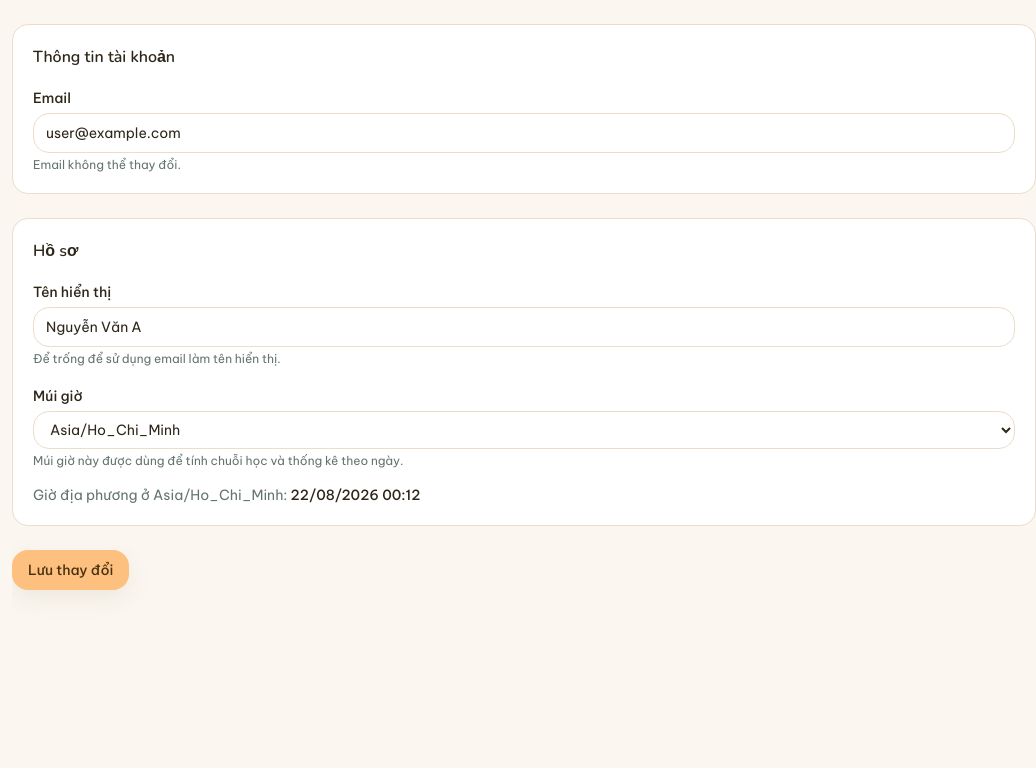
Test case: ProfileSettingsForm › keeps entered values and shows the error on a recoverable failure
Replace the text in the field labelled "Tên hiển thị" with "Tên giữ nguyên" at (524, 327), box [33, 307, 1015, 347]
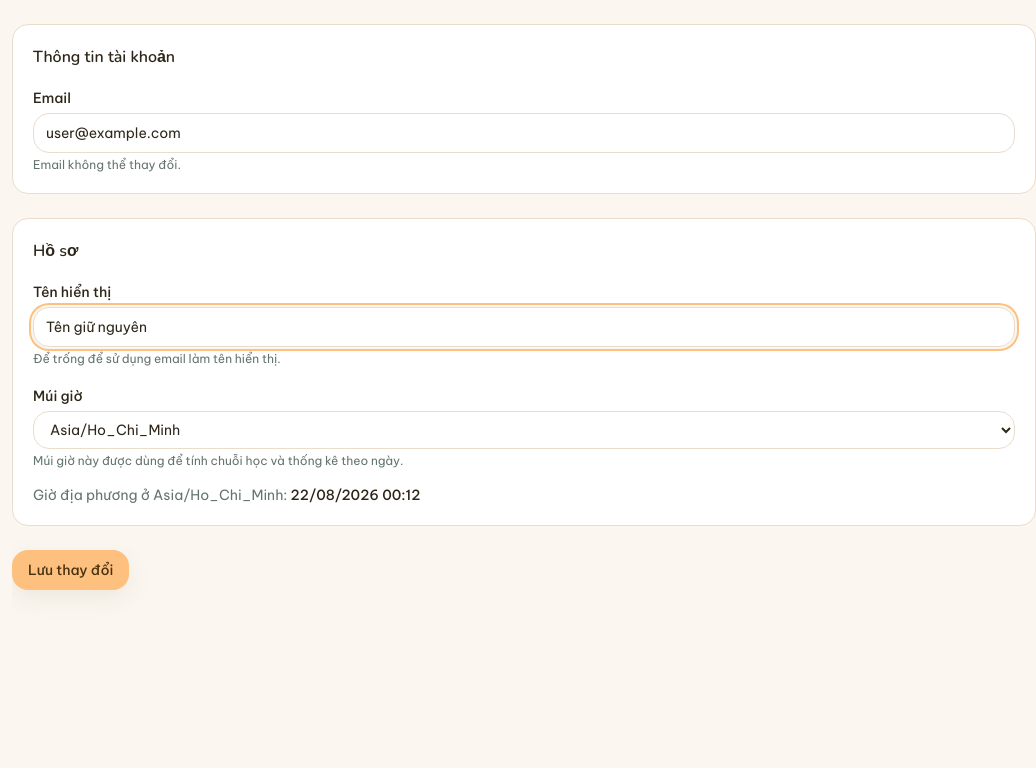
Click the button "Lưu thay đổi" at (71, 570), box [12, 550, 129, 590]
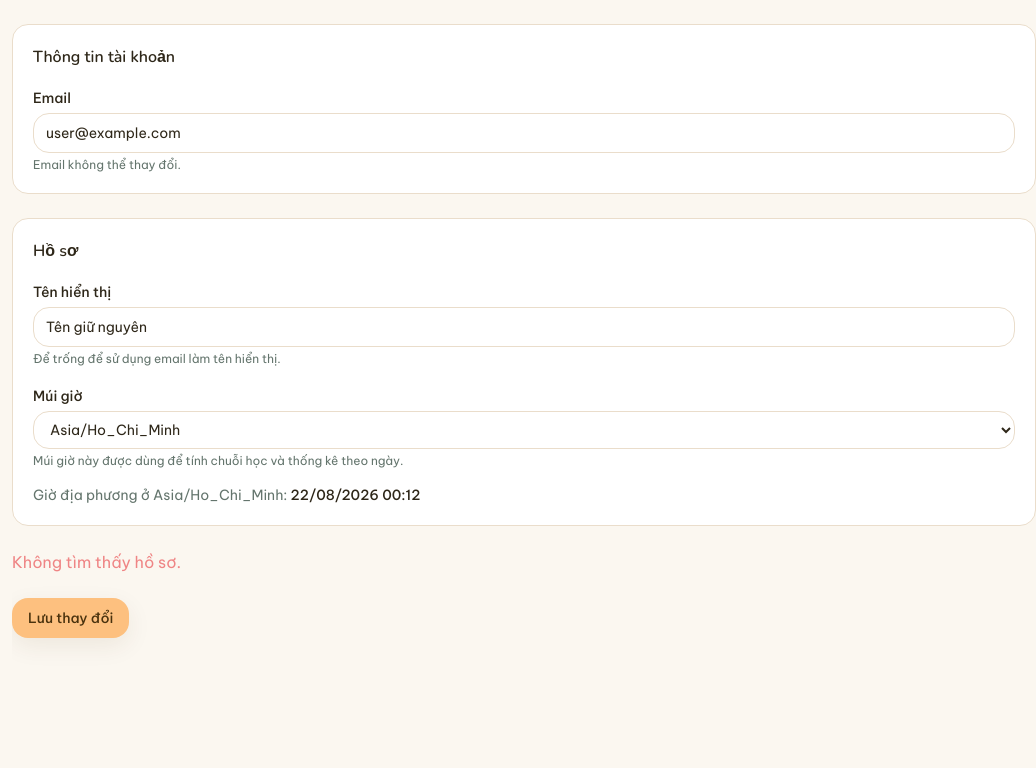
Check: the dropdown labelled "Múi giờ" shows "Asia/Ho_Chi_Minh", box [33, 411, 1015, 449]
Check: the message reads "Không tìm thấy hồ sơ.", box [12, 552, 181, 572]
